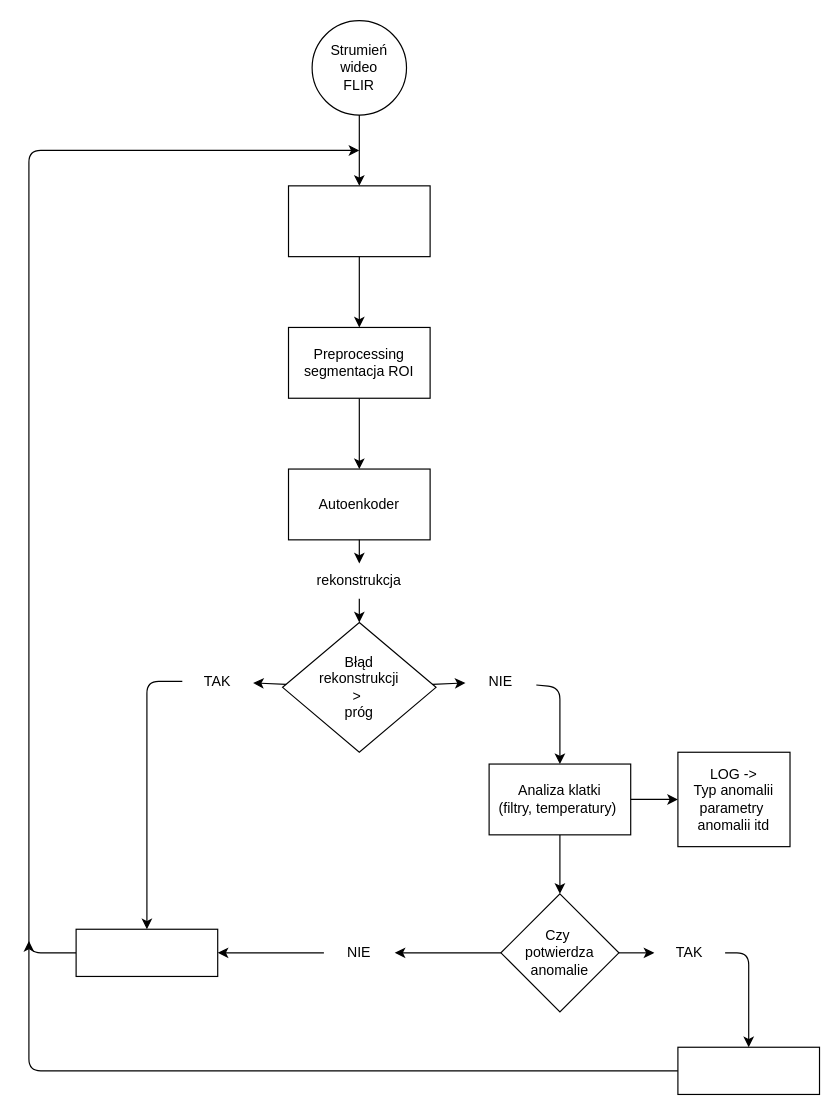
Some shapes in this 840 by 1115 pixel diagram are drawn without their labels. Here are the shapes that lost their labels. From the top down, the box of each, then its label:
(287, 185, 430, 257): Przechwycenie klatki
(75, 928, 218, 976): Log -> OK
(677, 1046, 820, 1094): LOG -> ANOMALIA
